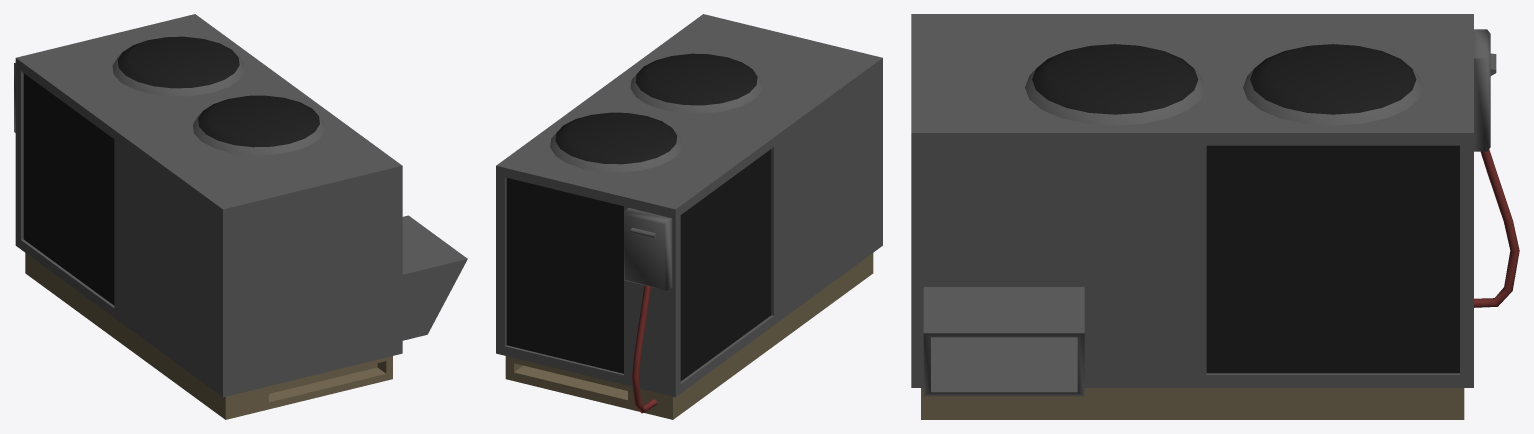
Rendered from Environment_Roof_Fan.fbx.
3 views of the same model, side by side, from view 1: azimuth 30°, elevation 25°; view 2: azimuth 150°, elevation 25°; view 3: azimuth 270°, elevation 25° (orthographic). The views are drawn at different scales.
Parts seen in each view (by area): view 1: Cube; view 2: Cube; view 3: Cube.
Part boxes in pixels (x1,y1,x2,y2): Cube: (14, 14, 467, 419); Cube: (496, 14, 882, 419); Cube: (911, 14, 1519, 419).
Bounding box in the file's own units: 278 × 240 × 433.
